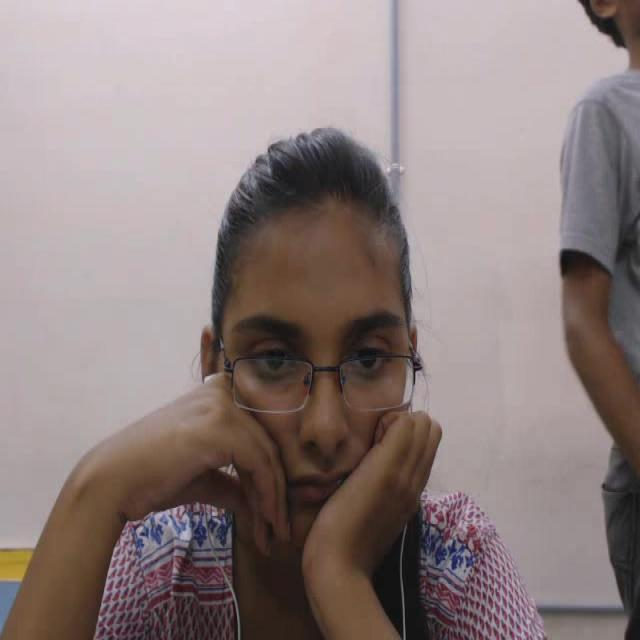Bored: (193, 110, 450, 576)
